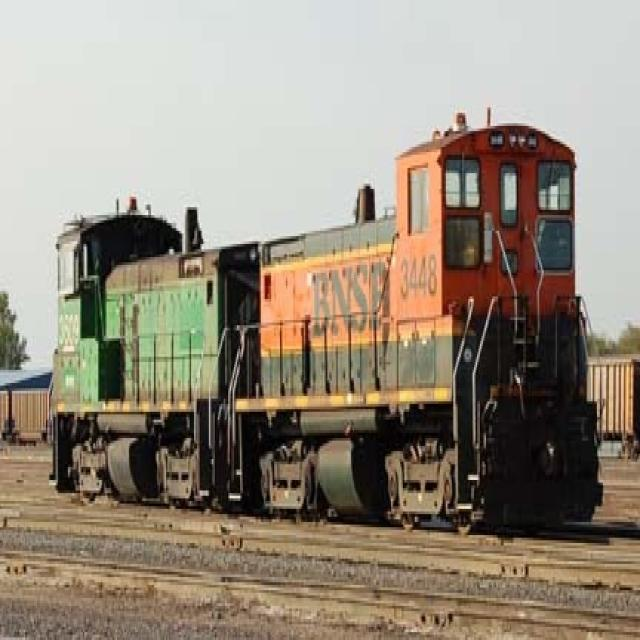train: (35, 107, 606, 543)
